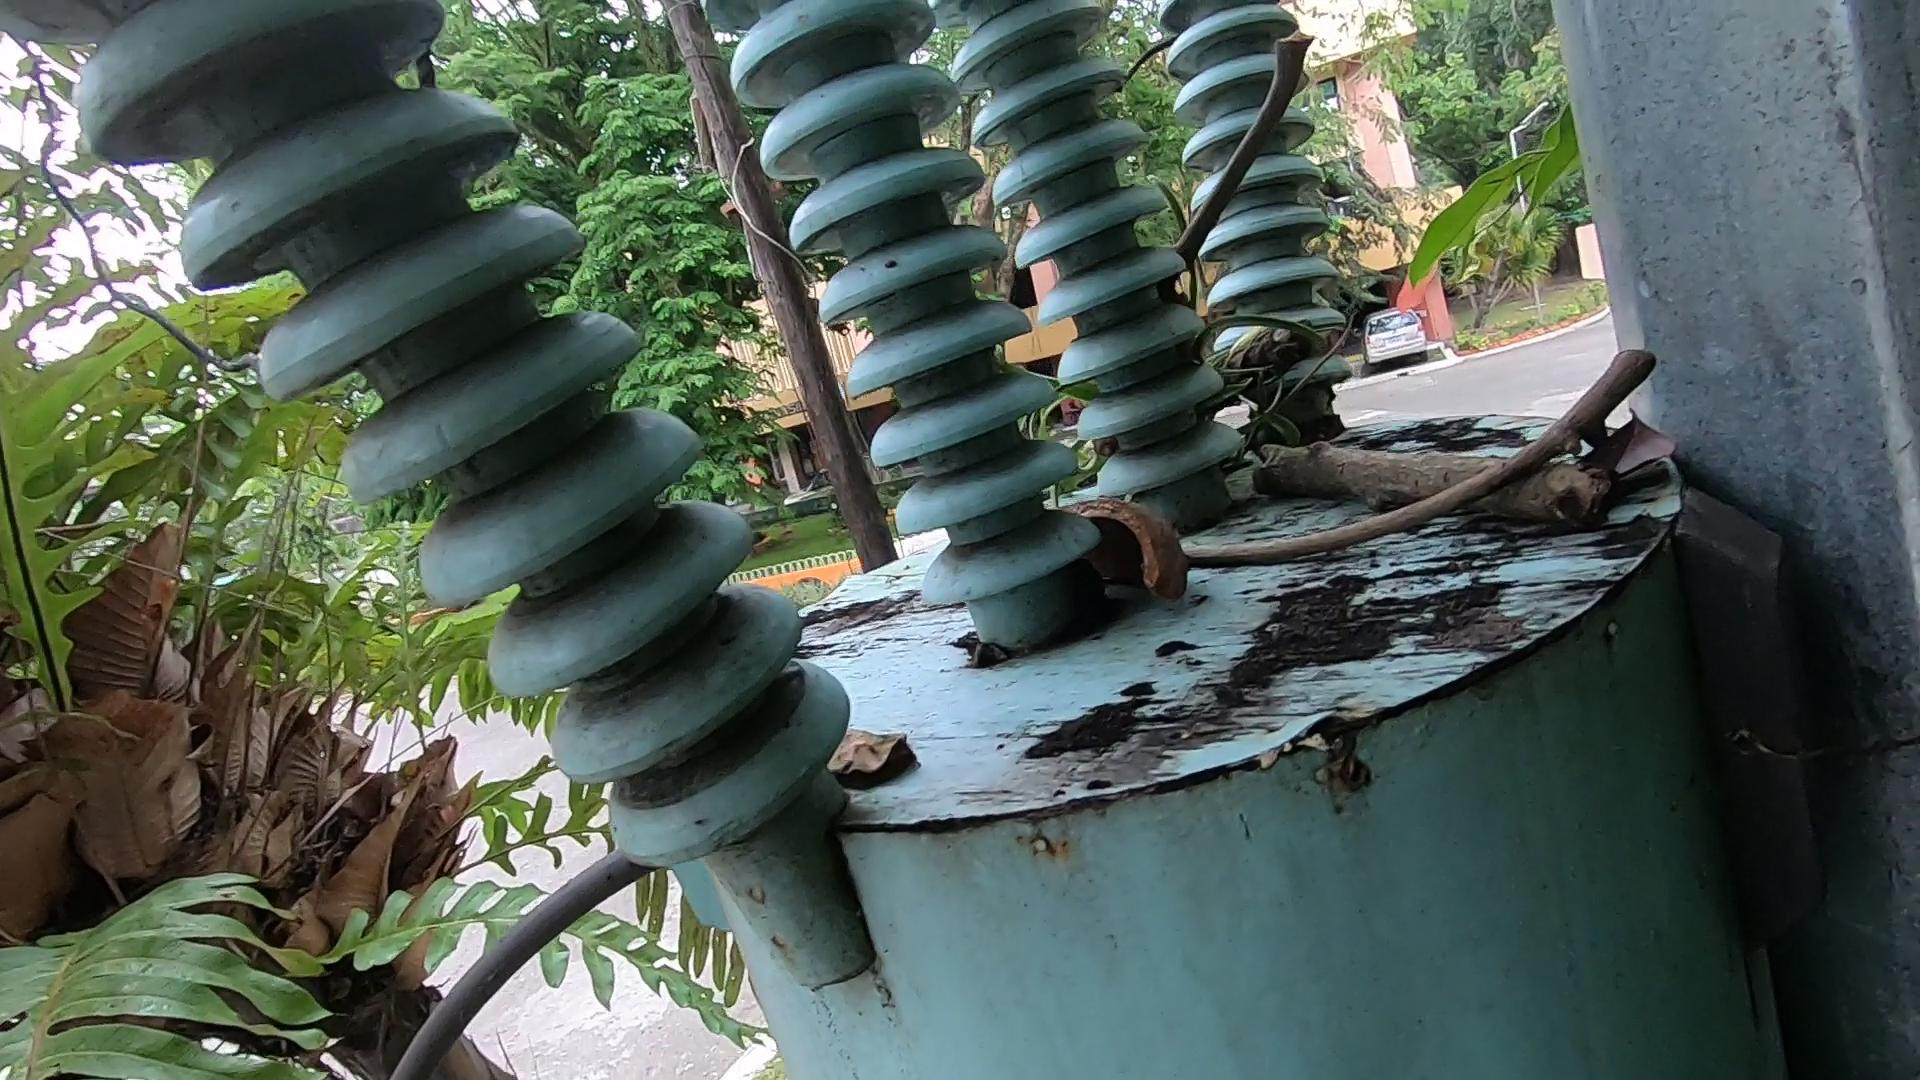branch with leaves: (1151, 265, 1656, 560)
leaf: (791, 703, 1022, 919), (1581, 392, 1676, 492)
mahogany fruit: (1079, 498, 1211, 630)
tree branch: (1139, 299, 1716, 568), (1170, 73, 1294, 299)
